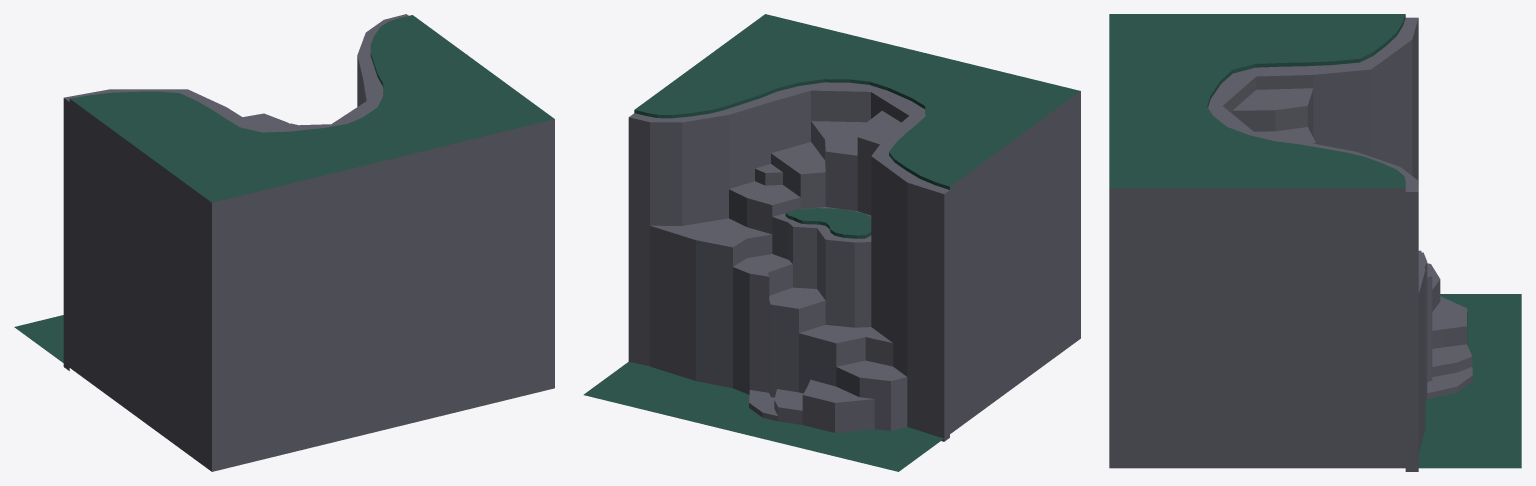
Rendered from WFCStair.fbx.
The picture shows the model from 3 angles, left to right: view 1: azimuth 30°, elevation 25°; view 2: azimuth 150°, elevation 25°; view 3: azimuth 270°, elevation 25°; orthographic projection. The views are drawn at different scales.
Visible parts, largest first — view 1: Plane.003; view 2: Plane.003; view 3: Plane.003.
Boxes of the visible parts, left/top/right/bottom form: Plane.003: left=14, top=14, right=554, bottom=471; Plane.003: left=583, top=14, right=1080, bottom=471; Plane.003: left=1109, top=14, right=1521, bottom=471.
Size of the model in its own units: 100 by 76 by 100.
